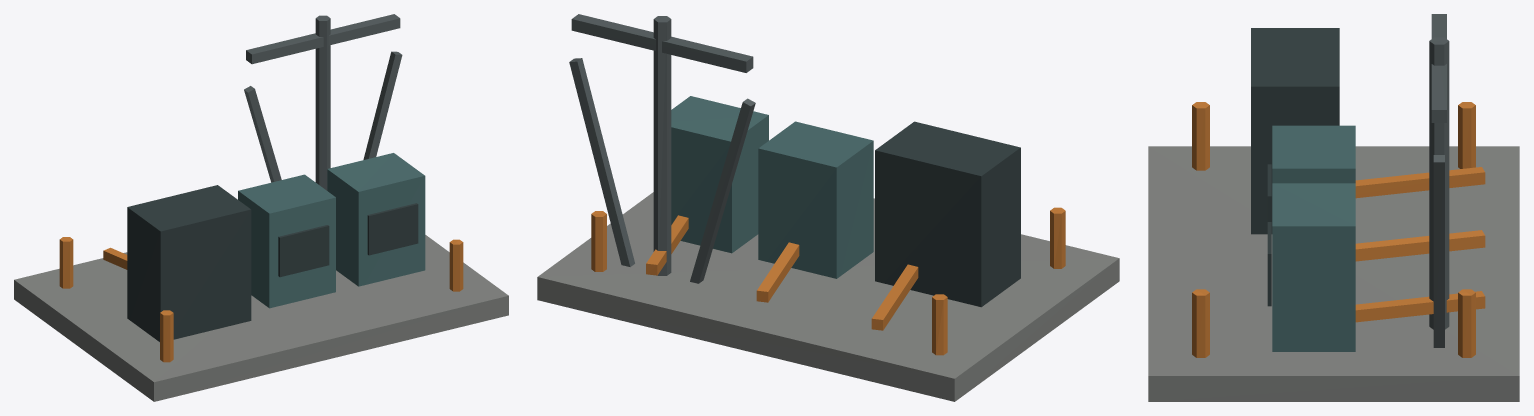
Rendered from microgrid.source.glb.
3 views of the same model, side by side, from view 1: azimuth 30°, elevation 25°; view 2: azimuth 150°, elevation 25°; view 3: azimuth 270°, elevation 25° (orthographic). The views are drawn at different scales.
Visible parts, largest first — view 1: microgrid-grounded-microgrid-foundation-mesh, microgrid-dark-control-inverter-cabinet-mesh, microgrid-compact-battery-cabinet-2-mesh, microgrid-compact-battery-cabinet-1-mesh, microgrid-triangular-mast-center-mesh, microgrid-mast-crossbar-mesh, microgrid-battery-front-panel-2-mesh, microgrid-battery-front-panel-1-mesh, microgrid-mast-leg-2-mesh, microgrid-mast-leg-1-mesh, microgrid-low-safety-post-4-mesh, microgrid-low-safety-post-1-mesh (+1 smaller); view 2: microgrid-grounded-microgrid-foundation-mesh, microgrid-dark-control-inverter-cabinet-mesh, microgrid-compact-battery-cabinet-1-mesh, microgrid-compact-battery-cabinet-2-mesh, microgrid-triangular-mast-center-mesh, microgrid-mast-crossbar-mesh, microgrid-mast-leg-2-mesh, microgrid-mast-leg-1-mesh, microgrid-exposed-service-conduit-1-mesh, microgrid-exposed-service-conduit-2-mesh, microgrid-low-safety-post-1-mesh, microgrid-low-safety-post-3-mesh (+2 smaller); view 3: microgrid-grounded-microgrid-foundation-mesh, microgrid-compact-battery-cabinet-2-mesh, microgrid-dark-control-inverter-cabinet-mesh, microgrid-compact-battery-cabinet-1-mesh, microgrid-triangular-mast-center-mesh, microgrid-mast-leg-2-mesh, microgrid-exposed-service-conduit-2-mesh, microgrid-exposed-service-conduit-1-mesh, microgrid-exposed-service-conduit-3-mesh, microgrid-mast-crossbar-mesh, microgrid-low-safety-post-2-mesh, microgrid-low-safety-post-3-mesh (+3 smaller).
Part boxes in pixels (x1,y1,x2,y2): microgrid-grounded-microgrid-foundation-mesh: (14, 235, 508, 401); microgrid-dark-control-inverter-cabinet-mesh: (127, 185, 251, 341); microgrid-compact-battery-cabinet-2-mesh: (327, 153, 425, 286); microgrid-compact-battery-cabinet-1-mesh: (238, 174, 335, 308); microgrid-triangular-mast-center-mesh: (315, 15, 330, 190); microgrid-mast-crossbar-mesh: (246, 14, 400, 64); microgrid-battery-front-panel-2-mesh: (367, 203, 418, 255); microgrid-battery-front-panel-1-mesh: (278, 225, 329, 277); microgrid-mast-leg-2-mesh: (363, 51, 402, 159); microgrid-mast-leg-1-mesh: (244, 86, 281, 182); microgrid-low-safety-post-4-mesh: (449, 239, 463, 291); microgrid-low-safety-post-1-mesh: (59, 237, 73, 288); microgrid-grounded-microgrid-foundation-mesh: (537, 192, 1119, 401); microgrid-dark-control-inverter-cabinet-mesh: (875, 121, 1020, 307); microgrid-compact-battery-cabinet-1-mesh: (758, 121, 873, 278); microgrid-compact-battery-cabinet-2-mesh: (671, 96, 768, 253); microgrid-triangular-mast-center-mesh: (653, 16, 671, 275); microgrid-mast-crossbar-mesh: (571, 14, 753, 72); microgrid-mast-leg-2-mesh: (569, 58, 634, 266); microgrid-mast-leg-1-mesh: (690, 98, 755, 283); microgrid-exposed-service-conduit-1-mesh: (871, 264, 918, 330); microgrid-exposed-service-conduit-2-mesh: (756, 242, 799, 302); microgrid-low-safety-post-1-mesh: (932, 294, 947, 355); microgrid-low-safety-post-3-mesh: (1050, 207, 1065, 268); microgrid-grounded-microgrid-foundation-mesh: (1148, 146, 1519, 401); microgrid-compact-battery-cabinet-2-mesh: (1272, 183, 1355, 351); microgrid-dark-control-inverter-cabinet-mesh: (1251, 28, 1339, 234); microgrid-compact-battery-cabinet-1-mesh: (1272, 125, 1355, 183); microgrid-triangular-mast-center-mesh: (1429, 37, 1449, 329); microgrid-mast-leg-2-mesh: (1433, 155, 1444, 347); microgrid-exposed-service-conduit-2-mesh: (1355, 230, 1485, 261); microgrid-exposed-service-conduit-1-mesh: (1355, 167, 1485, 198); microgrid-exposed-service-conduit-3-mesh: (1355, 291, 1485, 322); microgrid-mast-crossbar-mesh: (1431, 14, 1446, 122); microgrid-low-safety-post-2-mesh: (1458, 289, 1475, 357); microgrid-low-safety-post-3-mesh: (1192, 102, 1209, 170).
Bounding box in the file's own units: 4.92 × 3.1 × 3.35.
